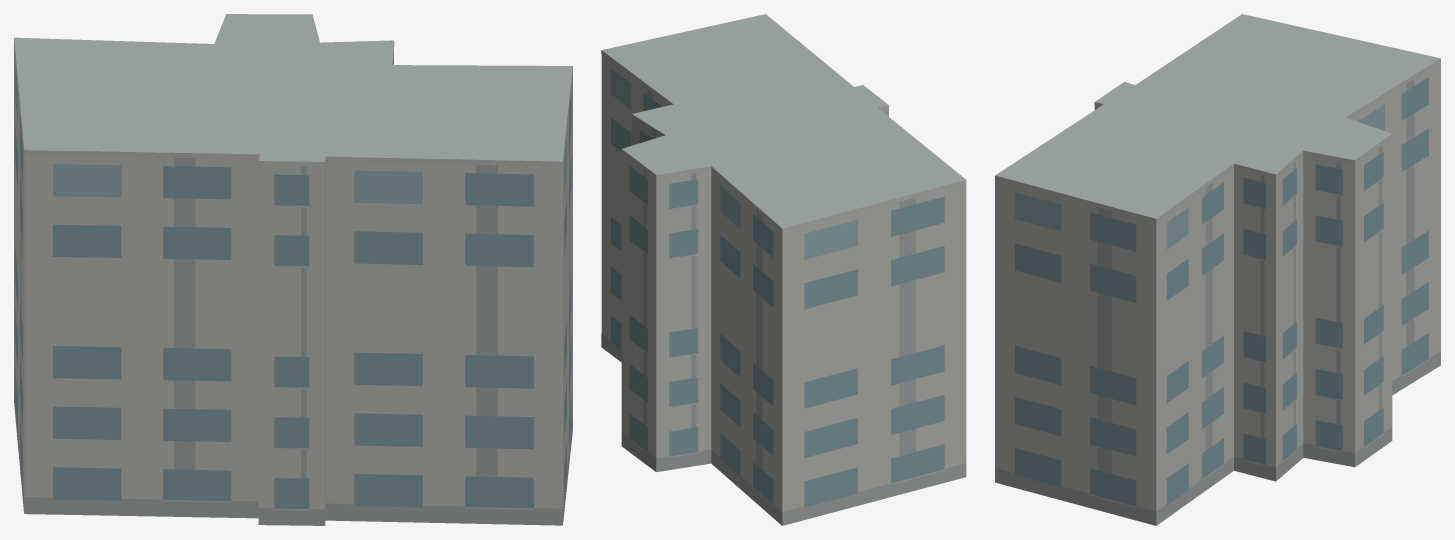
The model's file is survey-upis-32646619.glb.
3 renders of one model, left to right at view 1: azimuth 30°, elevation 25°; view 2: azimuth 150°, elevation 25°; view 3: azimuth 270°, elevation 25°, orthographic. The views are drawn at different scales.
Visible parts, largest first — view 1: survey-upis-32646619.tmp; view 2: survey-upis-32646619.tmp; view 3: survey-upis-32646619.tmp.
Part boxes in pixels (left/top/right/bottom): survey-upis-32646619.tmp: left=14, top=14, right=572, bottom=525; survey-upis-32646619.tmp: left=601, top=14, right=966, bottom=525; survey-upis-32646619.tmp: left=995, top=14, right=1440, bottom=525.
Size of the model in its own units: 25.41 by 17.75 by 23.37.
